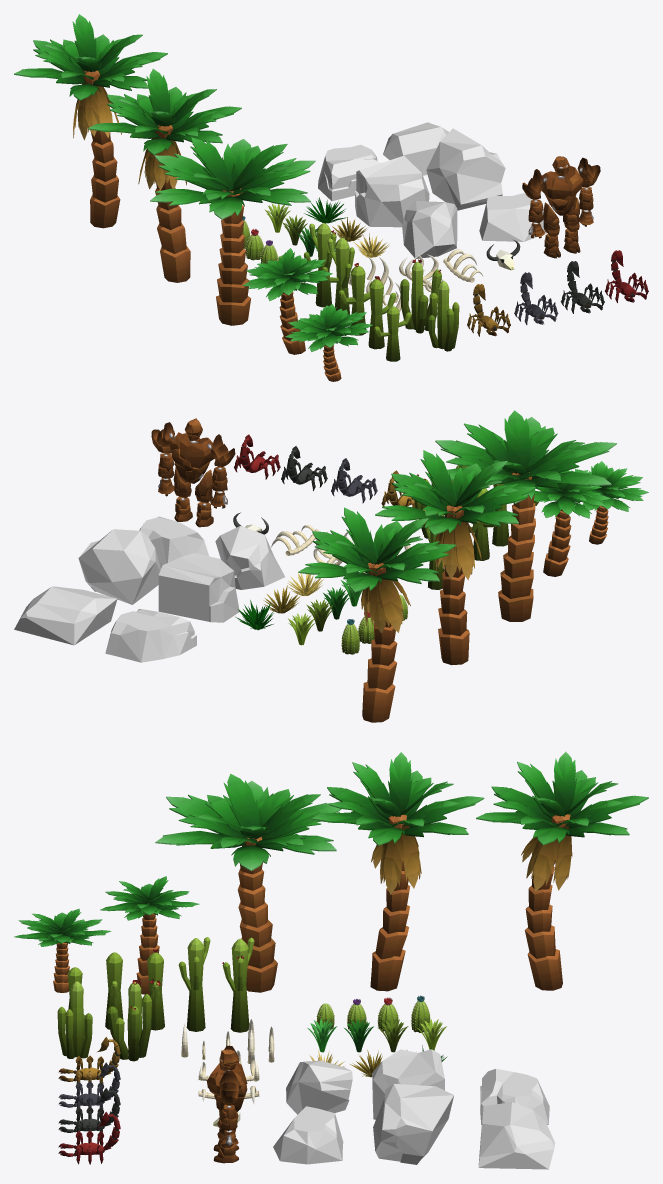
Rendered from packdesert2.fbx.
3 views of the same model, one above another, from view 1: azimuth 30°, elevation 25°; view 2: azimuth 150°, elevation 25°; view 3: azimuth 270°, elevation 25° (orthographic). The views are drawn at different scales.
Parts seen in each view (by area): view 1: Palmera.002, Palmera.001, Palmera, Golem.001, Rocas.008, Rocas.002, Palmera.004, Rocas.009, Palmera.003, Rocas.004, Rocas.001, Rocas.003 (+13 smaller); view 2: Palmera.001, Palmera.002, Palmera, Golem.001, Rocas.002, Rocas.008, Rocas.003, Rocas.001, Palmera.004, Rocas.009, Palmera.003, Rocas.004 (+10 smaller); view 3: Palmera.002, Palmera.001, Palmera, Rocas.008, Rocas.003, Palmera.004, Rocas.004, Golem.001, Rocas.009, Palmera.003, Rocas.002, Rocas.001 (+10 smaller).
Part boxes in pixels (x1=…): Palmera.002: x1=150, y1=137, x2=315, y2=325; Palmera.001: x1=14, y1=14, x2=167, y2=228; Palmera: x1=88, y1=68, x2=241, y2=282; Golem.001: x1=522, y1=156, x2=600, y2=258; Rocas.008: x1=426, y1=128, x2=505, y2=210; Rocas.002: x1=355, y1=155, x2=429, y2=227; Palmera.004: x1=242, y1=248, x2=332, y2=354; Rocas.009: x1=402, y1=201, x2=457, y2=258; Palmera.003: x1=285, y1=304, x2=372, y2=381; Rocas.004: x1=479, y1=193, x2=546, y2=241; Rocas.001: x1=318, y1=144, x2=379, y2=201; Rocas.003: x1=383, y1=122, x2=448, y2=175; Palmera.001: x1=298, y1=507, x2=456, y2=722; Palmera.002: x1=435, y1=410, x2=616, y2=621; Palmera: x1=375, y1=450, x2=535, y2=665; Golem.001: x1=151, y1=418, x2=235, y2=527; Rocas.002: x1=158, y1=553, x2=239, y2=622; Rocas.008: x1=78, y1=529, x2=160, y2=604; Rocas.003: x1=14, y1=586, x2=117, y2=645; Rocas.001: x1=105, y1=609, x2=196, y2=662; Palmera.004: x1=534, y1=470, x2=610, y2=576; Rocas.009: x1=215, y1=526, x2=284, y2=589; Palmera.003: x1=568, y1=461, x2=648, y2=544; Rocas.004: x1=139, y1=516, x2=208, y2=568; Palmera.002: x1=155, y1=773, x2=341, y2=992; Palmera.001: x1=476, y1=751, x2=648, y2=990; Palmera: x1=311, y1=752, x2=484, y2=991; Rocas.008: x1=373, y1=1083, x2=453, y2=1164; Rocas.003: x1=478, y1=1102, x2=555, y2=1169; Palmera.004: x1=100, y1=876, x2=199, y2=994; Rocas.004: x1=273, y1=1106, x2=343, y2=1164; Golem.001: x1=207, y1=1045, x2=247, y2=1163; Rocas.009: x1=286, y1=1060, x2=352, y2=1114; Palmera.003: x1=14, y1=908, x2=111, y2=992; Rocas.002: x1=372, y1=1049, x2=444, y2=1119; Rocas.001: x1=480, y1=1069, x2=549, y2=1124.
Bounding box in the file's own units: 2476 × 1024 × 2782.
